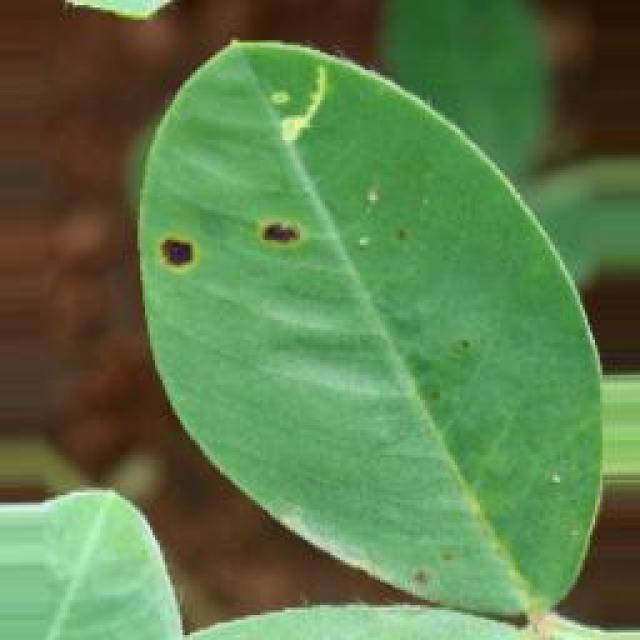Sigatoka: (372, 520, 458, 598), (249, 204, 323, 284), (149, 222, 228, 281)
